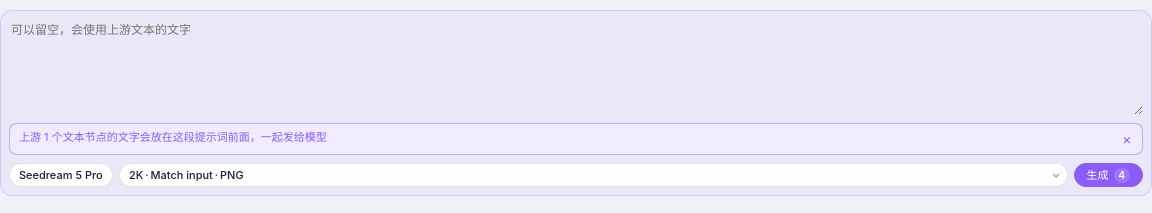
PromptComposer with a model registry › lets the note hint be closed
This screenshot has width=1152, height=213.
Expected: the text "上游 1 个文本节点的文字会放在这段提示词前面，一起发给模型" is shown, [19,130,327,144]
Click the button named "关闭提示".
click(1127, 139)  # box [1118,130,1136,148]
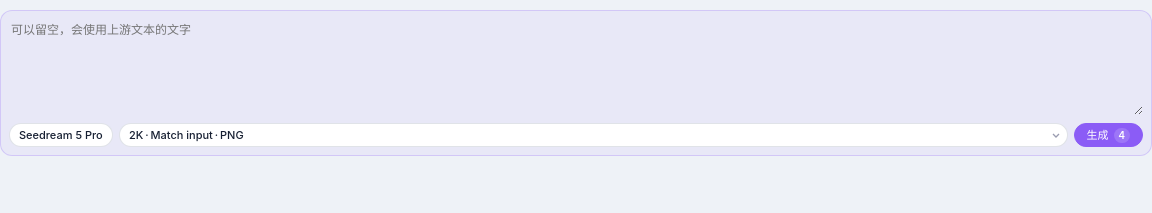
Expected: the text "上游 1 个文本节点" is gone
